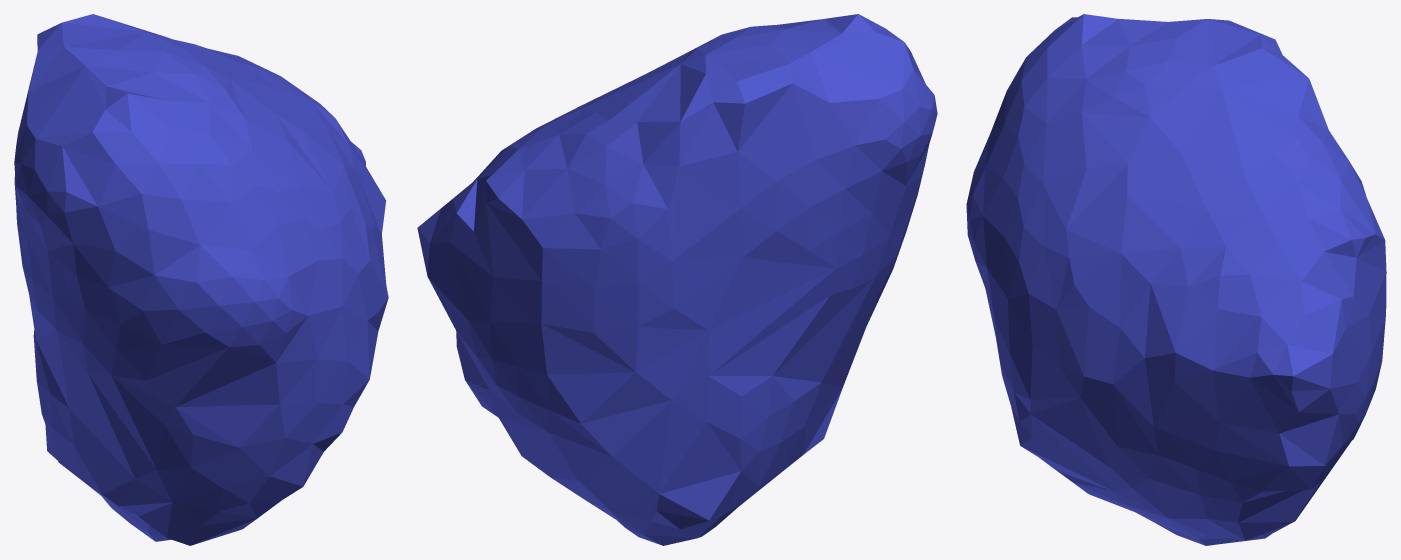
Rendered from Model_10178_LH__Anterior_cortical_amygdaloid_nucleus_(ACo).obj.
3 renders of one model, left to right at view 1: azimuth 30°, elevation 25°; view 2: azimuth 150°, elevation 25°; view 3: azimuth 270°, elevation 25°, orthographic. The views are drawn at different scales.
Size of the model in its own units: 0.941 by 1.09 by 0.868.
